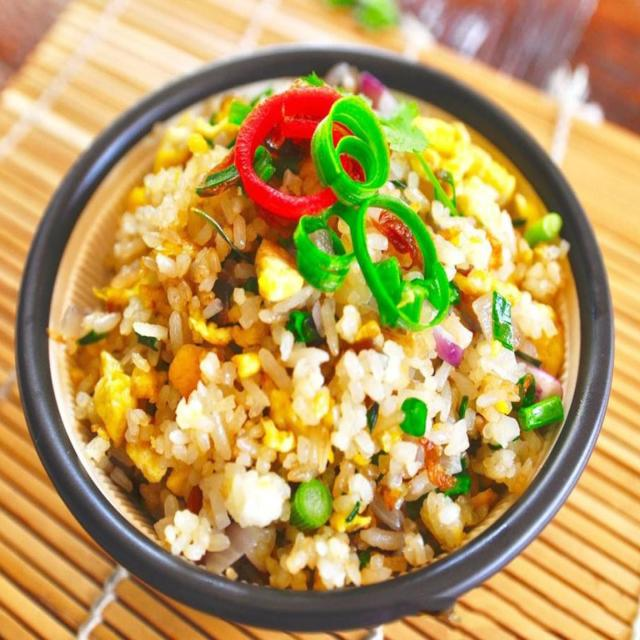Nasi Goreng: (56, 69, 572, 590)
